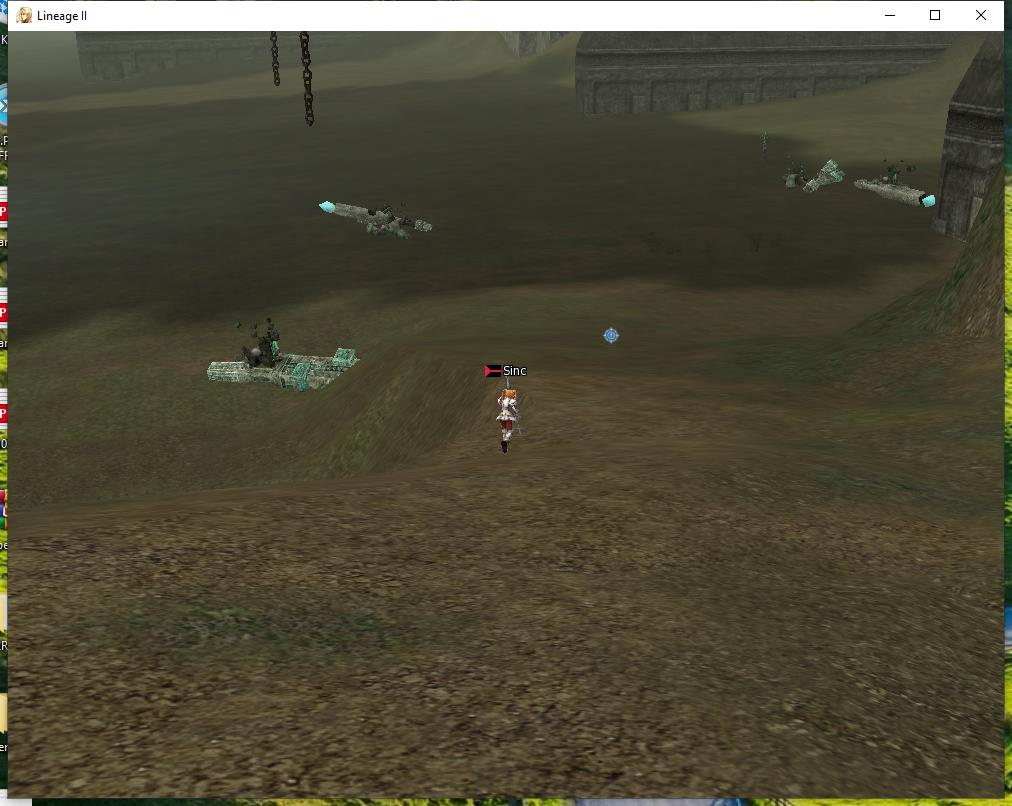monster: (204, 300, 367, 395), (301, 179, 457, 251), (857, 141, 935, 215), (783, 142, 846, 210), (759, 126, 774, 155)
